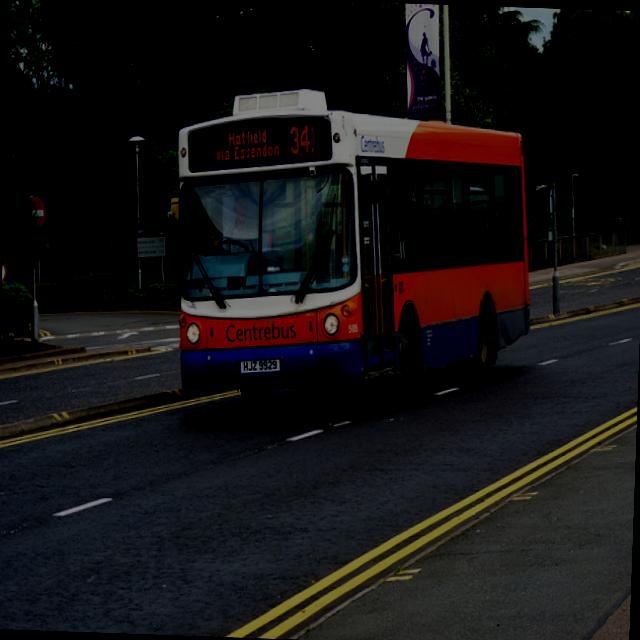Vehicle: (167, 83, 537, 418)
